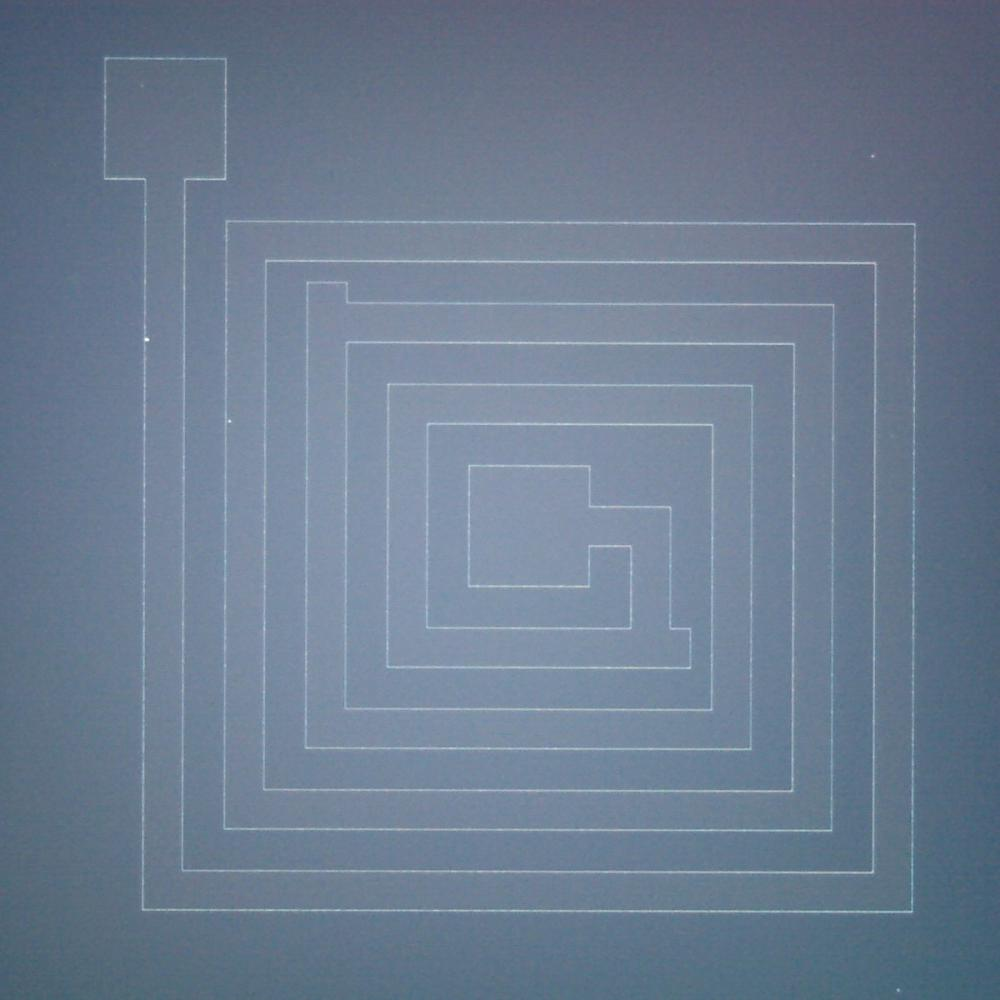dot: (896, 988, 901, 992), (871, 154, 875, 158), (146, 338, 149, 342), (228, 420, 232, 423)
